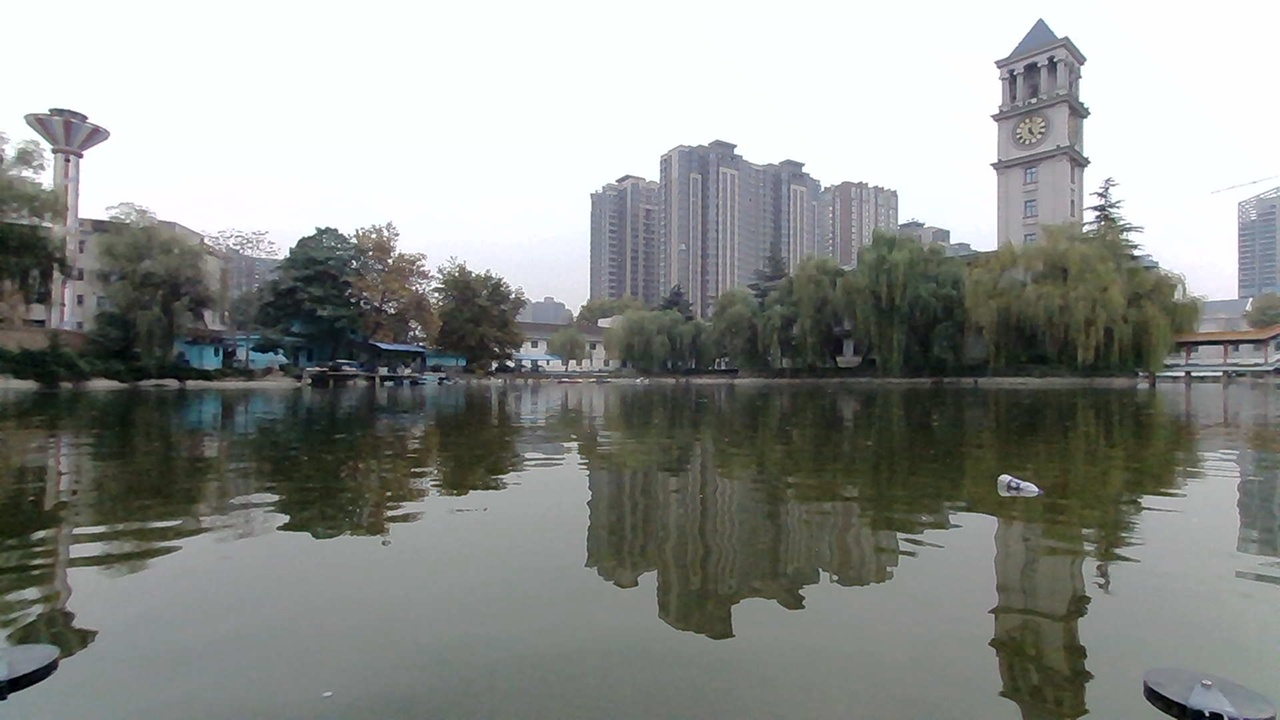bottle: (999, 472, 1038, 502)
